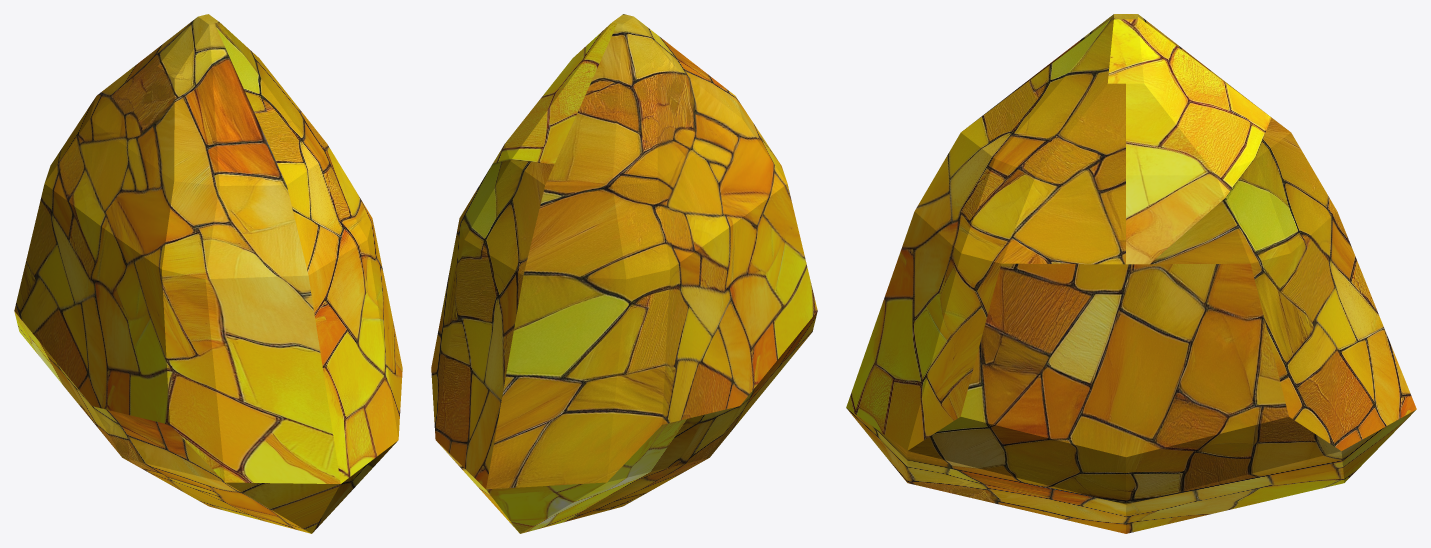
The model's file is gemstone5Yellow.glb.
3 renders of one model, left to right at view 1: azimuth 30°, elevation 25°; view 2: azimuth 150°, elevation 25°; view 3: azimuth 270°, elevation 25°, orthographic. The views are drawn at different scales.
Visible parts, largest first — view 1: gemstone4; view 2: gemstone4; view 3: gemstone4.
Boxes of the visible parts, x1,y1,x2,y2 form: gemstone4: (14,14,402,533); gemstone4: (431,14,817,533); gemstone4: (846,14,1416,533).
Size of the model in its own units: 0.5 by 1 by 1.
Materials: 1 (1 with a texture image).
